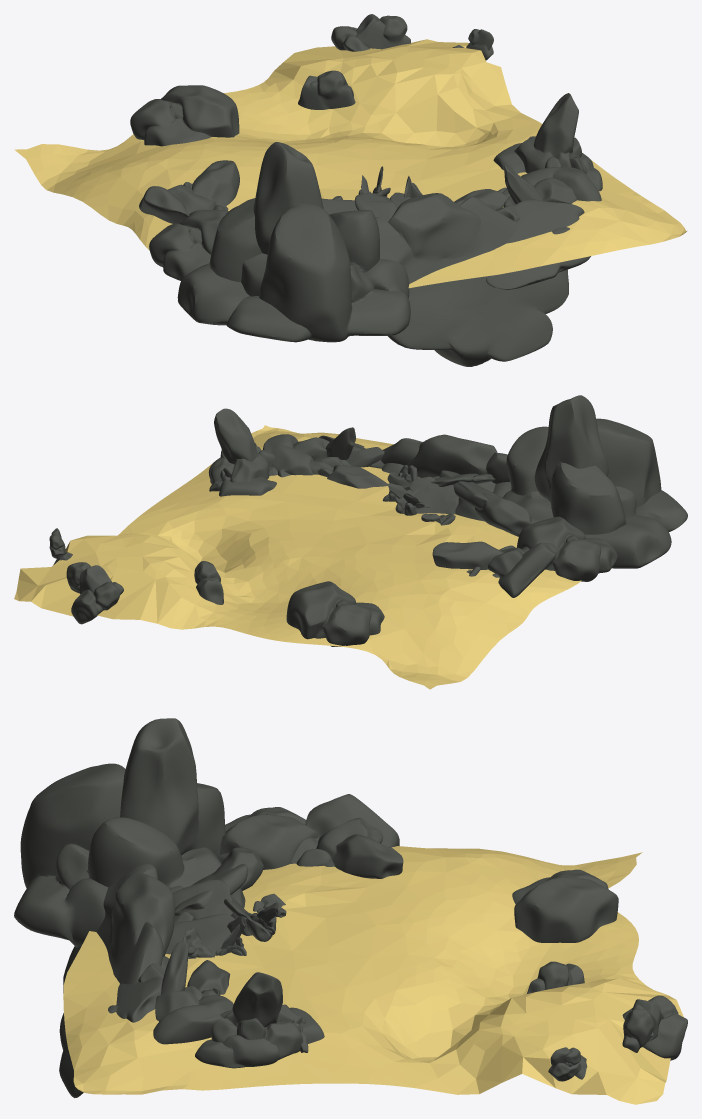
The model's file is island-test-1.glb.
3 renders of one model, top to bottom at view 1: azimuth 30°, elevation 25°; view 2: azimuth 150°, elevation 25°; view 3: azimuth 270°, elevation 25°, orthographic. The views are drawn at different scales.
Visible parts, largest first — view 1: Enviroment_sea, Environment_Cliff2.001, Environment_Cliff2.002, Environment_Cliff1.001, Environment_Cliff4.001, Environment_Cliff4.002, Environment_Cliff1.003, Environment_Cliff1.010, Environment_Cliff3.001, Environment_Cliff1.005, Environment_Cliff1.004, Environment_Cliff4.003 (+5 smaller); view 2: Enviroment_sea, Environment_Cliff2.001, Environment_Cliff1.001, Environment_Cliff2.002, Environment_Cliff4.002, Environment_Cliff4.001, Environment_Cliff1.010, Environment_Cliff3.001, Environment_Cliff2.003, Environment_Cliff4.005, Environment_Cliff1.008, Environment_Cliff1.009 (+4 smaller); view 3: Enviroment_sea, Environment_Cliff2.001, Environment_Cliff2.002, Environment_Cliff4.001, Environment_Cliff4.002, Environment_Cliff1.001, Environment_Cliff1.010, Environment_Cliff3.001, Environment_Cliff1.002, Environment_Cliff2.003, Environment_Cliff1.008, Environment_Cliff1.003 (+6 smaller).
Boxes of the visible parts, x1=… form: Enviroment_sea: x1=14, y1=39, x2=686, y2=288; Environment_Cliff2.001: x1=177, y1=142, x2=410, y2=342; Environment_Cliff2.002: x1=375, y1=193, x2=568, y2=366; Environment_Cliff1.001: x1=130, y1=85, x2=239, y2=146; Environment_Cliff4.001: x1=493, y1=93, x2=602, y2=191; Environment_Cliff4.002: x1=139, y1=160, x2=239, y2=223; Environment_Cliff1.003: x1=486, y1=199, x2=590, y2=289; Environment_Cliff1.010: x1=149, y1=209, x2=227, y2=280; Environment_Cliff3.001: x1=495, y1=166, x2=601, y2=222; Environment_Cliff1.005: x1=298, y1=70, x2=355, y2=109; Environment_Cliff1.004: x1=355, y1=14, x2=410, y2=49; Environment_Cliff4.003: x1=504, y1=165, x2=542, y2=203; Enviroment_sea: x1=14, y1=425, x2=581, y2=689; Environment_Cliff2.001: x1=493, y1=395, x2=687, y2=568; Environment_Cliff1.001: x1=286, y1=581, x2=384, y2=646; Environment_Cliff2.002: x1=381, y1=434, x2=509, y2=492; Environment_Cliff4.002: x1=432, y1=541, x2=556, y2=597; Environment_Cliff4.001: x1=208, y1=408, x2=277, y2=496; Environment_Cliff1.010: x1=517, y1=516, x2=617, y2=581; Environment_Cliff3.001: x1=263, y1=434, x2=384, y2=477; Environment_Cliff2.003: x1=439, y1=470, x2=541, y2=536; Environment_Cliff4.005: x1=395, y1=476, x2=458, y2=514; Environment_Cliff1.008: x1=71, y1=582, x2=123, y2=624; Environment_Cliff1.009: x1=310, y1=461, x2=387, y2=488; Enviroment_sea: x1=63, y1=846, x2=683, y2=1104; Environment_Cliff2.001: x1=14, y1=718, x2=225, y2=947; Environment_Cliff2.002: x1=59, y1=864, x2=175, y2=1098; Environment_Cliff4.001: x1=195, y1=972, x2=324, y2=1068; Environment_Cliff4.002: x1=290, y1=794, x2=403, y2=878; Environment_Cliff1.001: x1=512, y1=869, x2=618, y2=942; Environment_Cliff1.010: x1=220, y1=807, x2=317, y2=869; Environment_Cliff3.001: x1=138, y1=963, x2=233, y2=1044; Environment_Cliff1.002: x1=165, y1=879, x2=235, y2=955; Environment_Cliff2.003: x1=175, y1=847, x2=263, y2=915; Environment_Cliff1.008: x1=622, y1=995, x2=687, y2=1060; Environment_Cliff1.003: x1=108, y1=976, x2=162, y2=1022.
Bounding box in the file's own units: 216 × 99.07 × 227.
5 materials, 4 textured.
